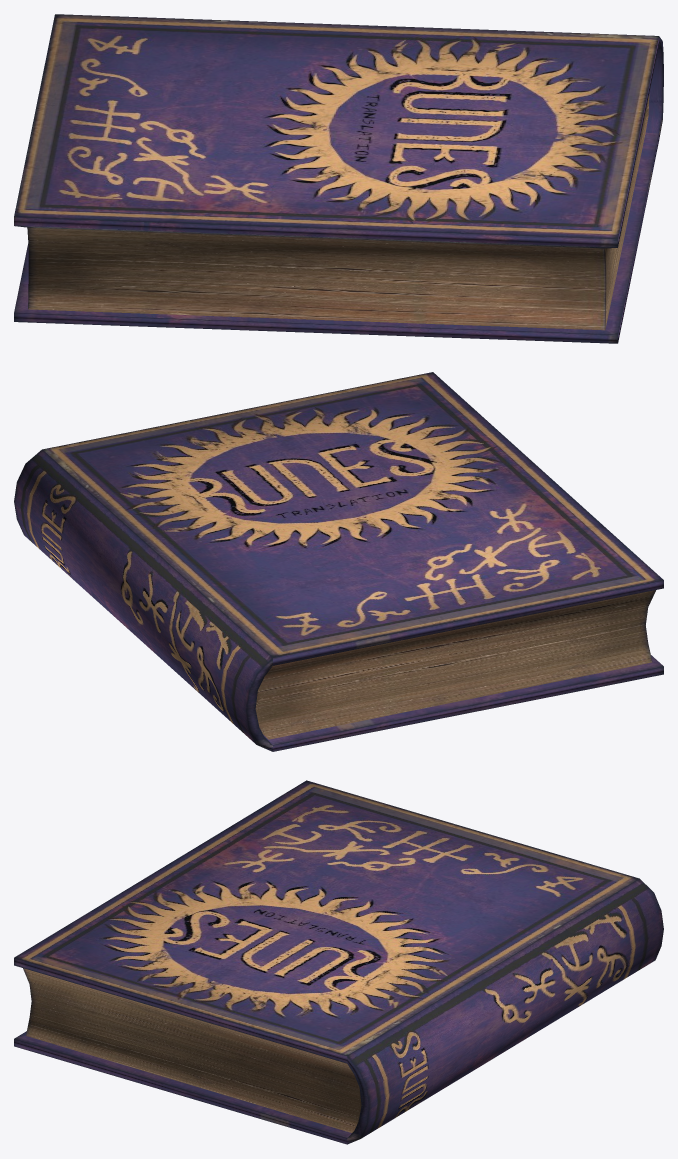
The model's file is Book2.glb.
The picture shows the model from 3 angles, top to bottom: view 1: azimuth 30°, elevation 25°; view 2: azimuth 150°, elevation 25°; view 3: azimuth 270°, elevation 25°; orthographic projection. The views are drawn at different scales.
Visible parts, largest first — view 1: huitugou_7019_01; view 2: huitugou_7019_01; view 3: huitugou_7019_01.
Part boxes in pixels (bbox=[...]): huitugou_7019_01: bbox=[14, 14, 663, 343]; huitugou_7019_01: bbox=[14, 372, 663, 751]; huitugou_7019_01: bbox=[14, 780, 663, 1144].
Bounding box in the file's own units: 0.6894 × 0.1007 × 0.6692.
Materials: 1 (1 with a texture image).
